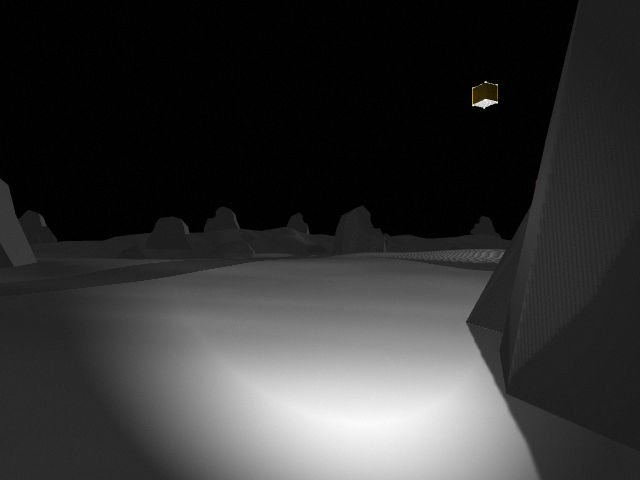cubesat: (465, 78, 505, 114)
